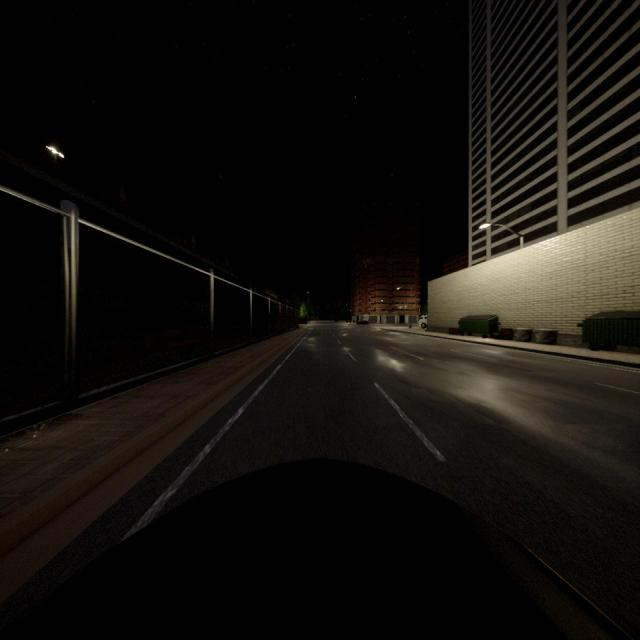Vehicle: (0, 461, 640, 640), (419, 314, 427, 329), (356, 320, 369, 325)
